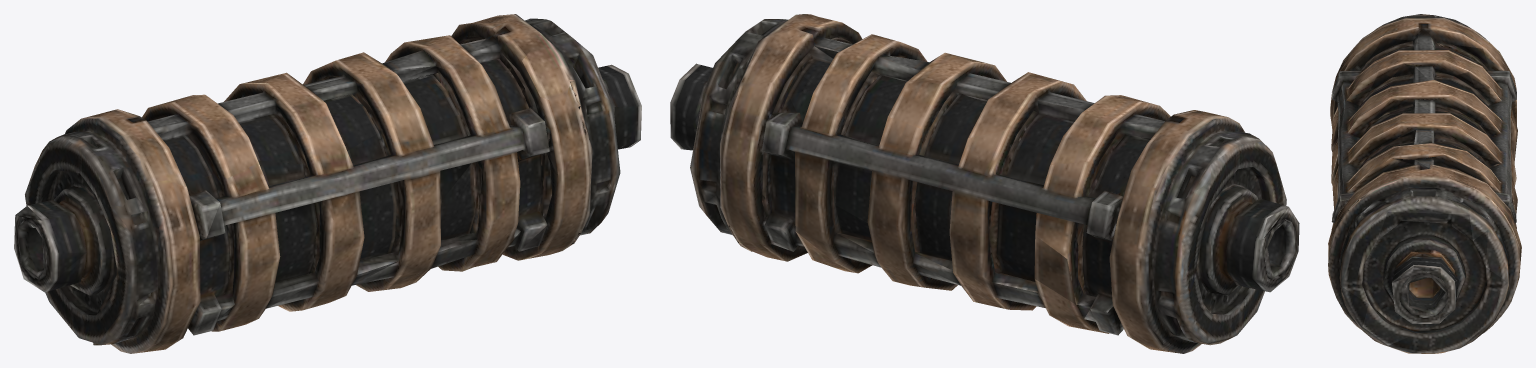
The model's file is insert-mobile.glb.
3 renders of one model, left to right at view 1: azimuth 30°, elevation 25°; view 2: azimuth 150°, elevation 25°; view 3: azimuth 270°, elevation 25°, orthographic. The views are drawn at different scales.
Parts seen in each view (by area): view 1: cassette-interior; view 2: cassette-interior; view 3: cassette-interior.
Boxes of the visible parts, x1,y1,x2,y2 form: cassette-interior: (14,14,641,353); cassette-interior: (670,14,1299,353); cassette-interior: (1328,14,1521,353).
Bounding box in the file's own units: 0.1804 × 0.065 × 0.0648.
Materials: 1 (1 with a texture image).
